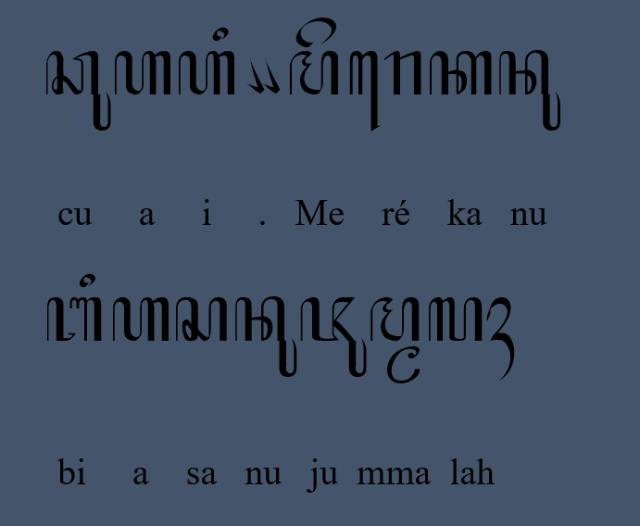_h1: (486, 296, 516, 381)
_m: (387, 345, 421, 385)
b: (45, 296, 103, 344)
cu: (46, 50, 114, 132)
e: (295, 17, 337, 49)
e1: (350, 49, 380, 133)
h: (111, 295, 171, 343), (177, 50, 237, 96), (115, 50, 172, 96)
i: (212, 26, 230, 44), (78, 273, 96, 289)
ju: (299, 295, 367, 379)
k: (428, 50, 494, 96)
kom: (261, 56, 281, 94), (245, 57, 265, 94)
l: (428, 296, 484, 342)
m: (290, 50, 340, 98), (370, 296, 420, 342)
nu: (234, 296, 298, 381), (498, 48, 562, 132)
r: (383, 50, 422, 96)
s: (174, 295, 228, 343)
